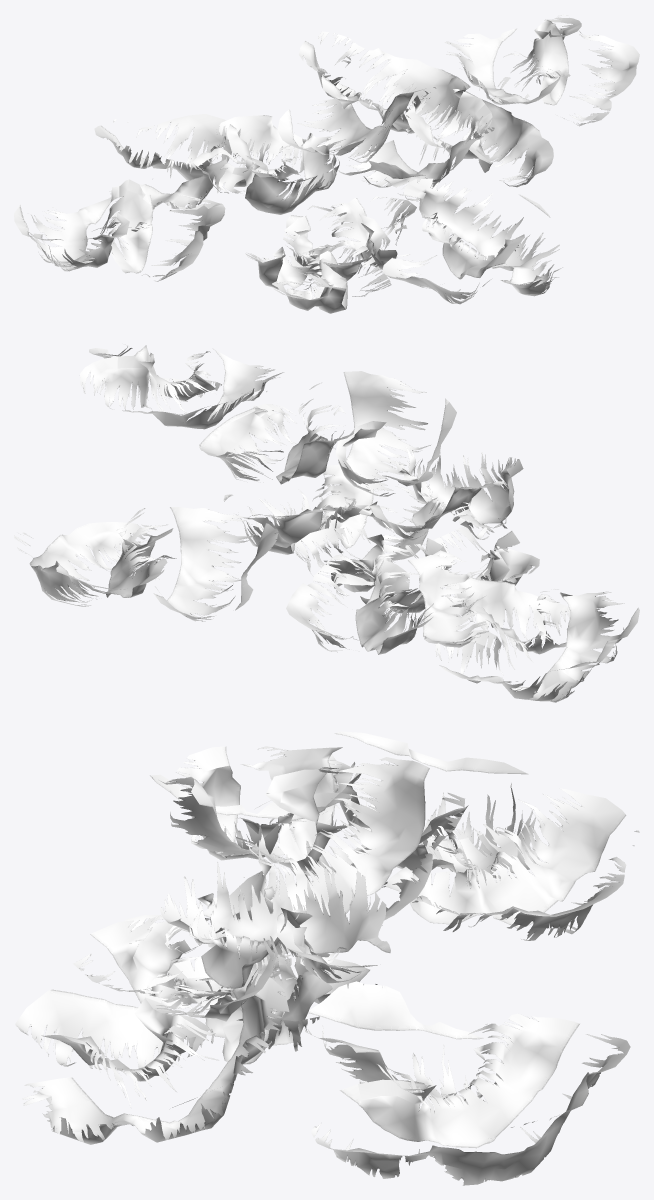
Rendered from SM_ENV_KNFRST_Leaf_GroupA.FBX.
3 views of the same model, one above another, from view 1: azimuth 30°, elevation 25°; view 2: azimuth 150°, elevation 25°; view 3: azimuth 270°, elevation 25° (orthographic). The views are drawn at different scales.
Visible parts, largest first — view 1: SM_ENV_KNFRST_Leaf_GroupA; view 2: SM_ENV_KNFRST_Leaf_GroupA; view 3: SM_ENV_KNFRST_Leaf_GroupA.
Part boxes in pixels (left/top/right/bottom): SM_ENV_KNFRST_Leaf_GroupA: left=14, top=14, right=639, bottom=313; SM_ENV_KNFRST_Leaf_GroupA: left=14, top=344, right=639, bottom=702; SM_ENV_KNFRST_Leaf_GroupA: left=15, top=731, right=639, bottom=1185.
Bounding box in the file's own units: 14582 × 5133 × 9632.
